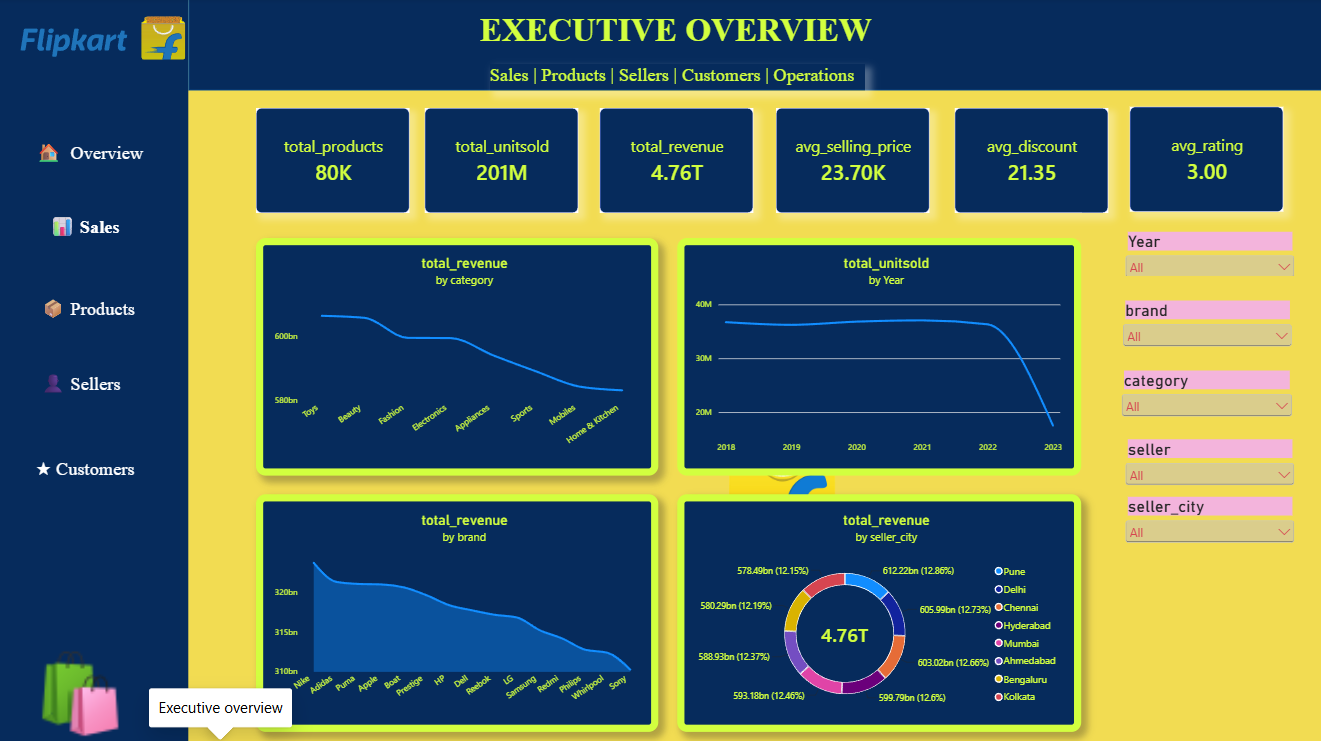

This screenshot's page, from the dashboard's own definition file:
{"tool":"powerbi","page":{"name":"Executive overview","canvas":[1920,1080],"ordinal":0},"visuals":[{"type":"shape","box":[0,0,278.7,1080.4],"z":0},{"type":"actionButton","box":[0,204.5,278.7,59.7],"z":1000},{"type":"textbox","box":[57.9,204.5,157.4,47.1],"z":2000},{"type":"image","box":[998.9,629.8,278.7,152],"z":3000},{"type":"shape","box":[278.7,0,1641.4,133.9],"z":4000},{"type":"textbox","box":[700.3,0,577.3,79.6],"z":5000},{"type":"cardVisual","fields":{"Data":["calculation_table.total_products"]},"box":[376.7,158.5,222.3,152.3],"z":6000},{"type":"cardVisual","fields":{"Data":["calculation_table.total_unitsold"]},"box":[621.6,158.5,222.3,152.3],"z":7000},{"type":"cardVisual","fields":{"Data":["calculation_table.total_revenue"]},"box":[874.8,158.5,222.3,152.3],"z":8000},{"type":"cardVisual","fields":{"Data":["calculation_table.avg_selling_price"]},"box":[1130,158.5,222.3,152.3],"z":9000},{"type":"cardVisual","fields":{"Data":["calculation_table.avg_discount"]},"box":[1387.3,158.5,222.3,152.3],"z":10000},{"type":"cardVisual","fields":{"Data":["calculation_table.avg_rating"]},"box":[1642,158,222.3,152.3],"z":11000},{"type":"lineChart","fields":{"Category":["flipkard.category"],"Y":["calculation_tbl.total_revenue"]},"box":[376.7,347.9,582.5,343.7],"z":12000},{"type":"lineChart","fields":{"Category":["DateTable.Date.Variation.Date Hierarchy.Year"],"Y":["calculation_table.total_unitsold"]},"box":[986,348,584.6,343.7],"z":13000},{"type":"areaChart","fields":{"Category":["flipkard.brand"],"Y":["calculation_tbl.total_revenue"]},"box":[376.7,718.4,582.5,343.7],"z":14000},{"type":"donutChart","fields":{"Category":["flipkard.seller_city"],"Y":["calculation_tbl.total_revenue"]},"box":[985.9,718.4,584.6,343.7],"z":15000},{"type":"slicer","fields":{"Values":["DateTable.Date.Variation.Date Hierarchy.Year"]},"box":[1630.5,338.4,254,64],"z":16000},{"type":"slicer","fields":{"Values":["flipkard.brand"]},"box":[1626.9,437.9,254,82],"z":17000},{"type":"slicer","fields":{"Values":["flipkard.category"]},"box":[1625.1,539.3,256,90],"z":18000},{"type":"slicer","fields":{"Values":["flipkard.seller"]},"box":[1630.5,638.8,254,106],"z":19000},{"type":"slicer","fields":{"Values":["flipkard.seller_city"]},"box":[1630.5,722.1,254,78],"z":20000},{"type":"actionButton","box":[0,311.3,278.7,59.7],"z":21000},{"type":"textbox","box":[57.9,311.3,157.4,59.7],"z":22000},{"type":"actionButton","box":[0,430.7,278.7,59.7],"z":23000},{"type":"textbox","box":[57.9,430.7,157.4,59.7],"z":24000},{"type":"actionButton","box":[0,539.3,278.7,59.7],"z":25000},{"type":"actionButton","box":[0,662.3,278.7,59.7],"z":26000},{"type":"textbox","box":[57.9,539.3,157.4,59.7],"z":27000},{"type":"textbox","box":[57.9,662.3,157.4,56.1],"z":28000},{"type":"textbox","box":[714.8,95.9,542.9,38],"z":29000},{"type":"image","box":[0,0,309.5,115.8],"z":30002},{"type":"image","box":[0,933.8,244.3,146.6],"z":30004}]}

Visuals, with their boxes on the page's 1920x1080 design canvas (x1, y1, x2, y2). These are canvas units, not pixel positions in the 1321x741 screenshot, which may show the page scaled, cropped or inside an application window:
shape: 0,0,279,1080
actionButton: 0,204,279,264
textbox: 58,204,215,252
image: 999,630,1278,782
shape: 279,0,1920,134
textbox: 700,0,1278,80
cardVisual - calculation_table.total_products: 377,158,599,311
cardVisual - calculation_table.total_unitsold: 622,158,844,311
cardVisual - calculation_table.total_revenue: 875,158,1097,311
cardVisual - calculation_table.avg_selling_price: 1130,158,1352,311
cardVisual - calculation_table.avg_discount: 1387,158,1610,311
cardVisual - calculation_table.avg_rating: 1642,158,1864,310
lineChart - flipkard.category x calculation_tbl.total_revenue: 377,348,959,692
lineChart - DateTable.Date.Variation.Date Hierarchy.Year x calculation_table.total_unitsold: 986,348,1571,692
areaChart - flipkard.brand x calculation_tbl.total_revenue: 377,718,959,1062
donutChart - flipkard.seller_city x calculation_tbl.total_revenue: 986,718,1570,1062
slicer - DateTable.Date.Variation.Date Hierarchy.Year: 1630,338,1884,402
slicer - flipkard.brand: 1627,438,1881,520
slicer - flipkard.category: 1625,539,1881,629
slicer - flipkard.seller: 1630,639,1884,745
slicer - flipkard.seller_city: 1630,722,1884,800
actionButton: 0,311,279,371
textbox: 58,311,215,371
actionButton: 0,431,279,490
textbox: 58,431,215,490
actionButton: 0,539,279,599
actionButton: 0,662,279,722
textbox: 58,539,215,599
textbox: 58,662,215,718
textbox: 715,96,1258,134
image: 0,0,310,116
image: 0,934,244,1080
